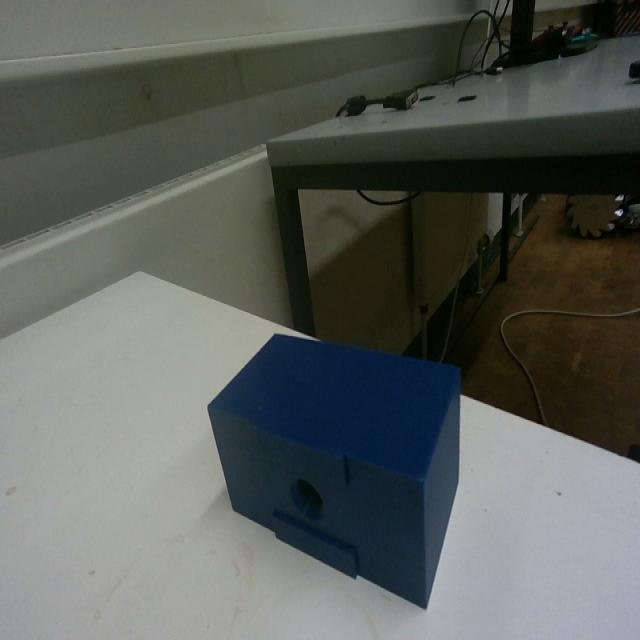Blue Cuboid: (205, 327, 464, 609)
